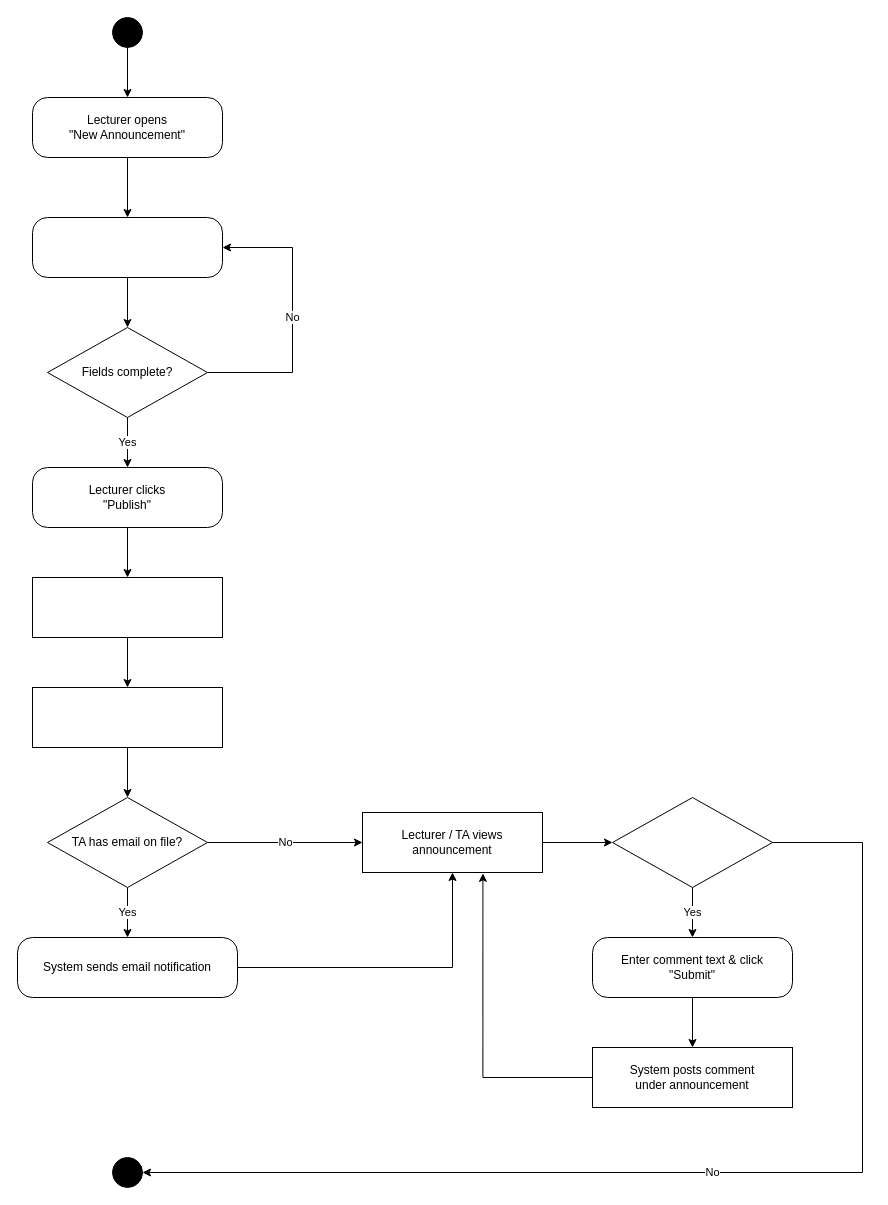
This 888x1205 diagram has some shape labels left out. The shapes that lost their labels are listed below. From the top down, each one's box as (x1, y1, x2, y2) in pixels, then its label:
(32, 216, 222, 278): Lecturer enters title & body
(32, 576, 222, 638): System saves announcement
(32, 686, 222, 748): System displays announcement on TA's dashboard
(612, 796, 772, 888): Wants to comment?
